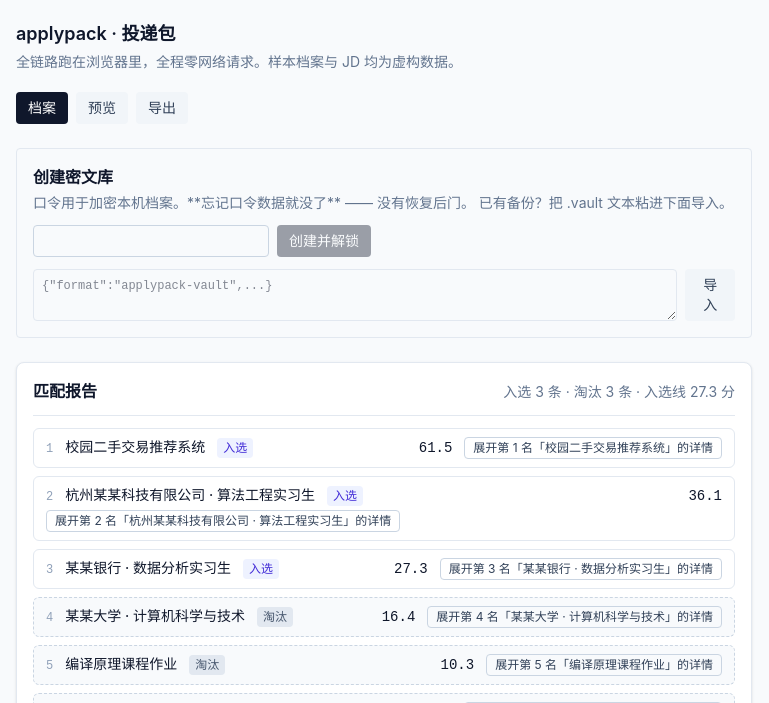
Test: App —— 三块功能接线 › 复制信封失败必须可见 —— 假装成功会让用户在网申页粘出空气
The width and height of the screenshot is (769, 703).
Type "test-pass" into the password field named "新库口令".
click(151, 241); type("test-pass")  # box 33,225 -> 269,257
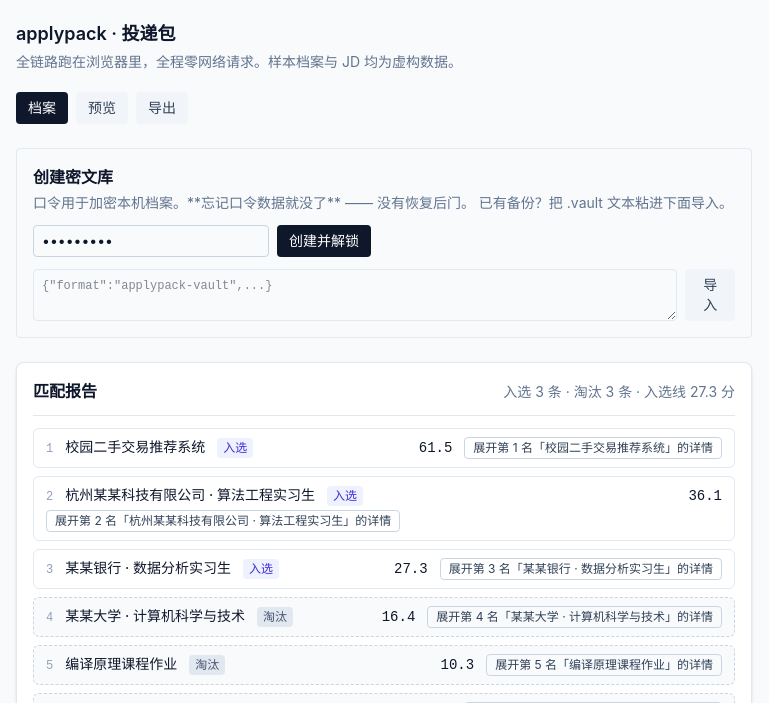
Click the button with test id "vault-create".
click(324, 241)  # box 277,225 -> 371,257
(page scrolled)
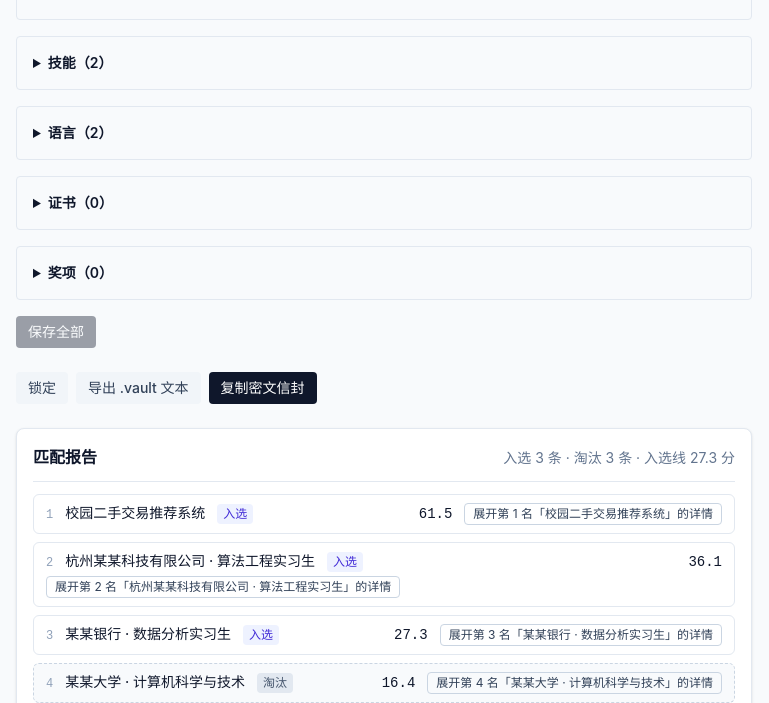
Expected: the button with test id "vault-lock" is shown, 16,372 -> 68,404
Click the button with test id "vault-copy-envelope".
click(262, 388)  # box 208,372 -> 316,404
(page scrolled)
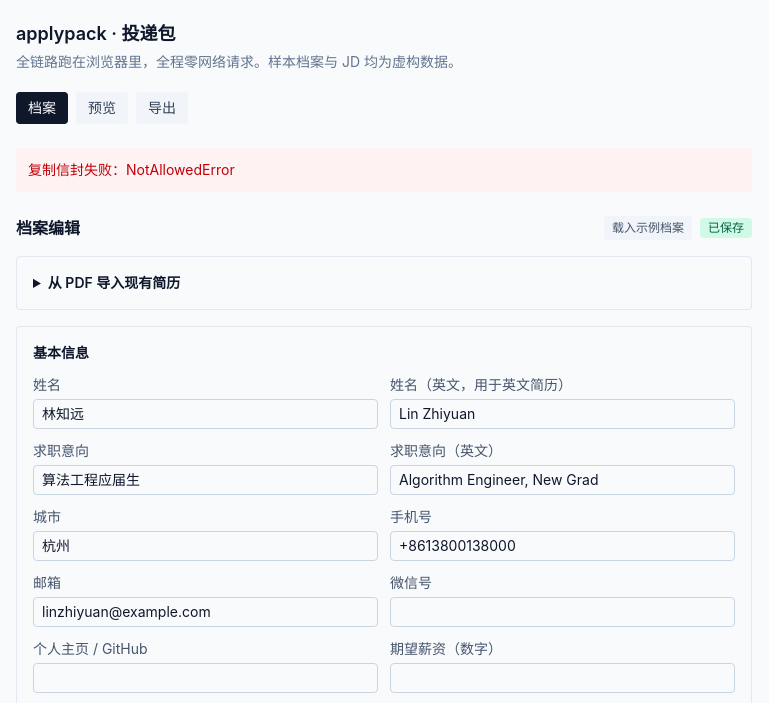
Expected: the message shows "复制信封失败", 28,161 -> 235,178
